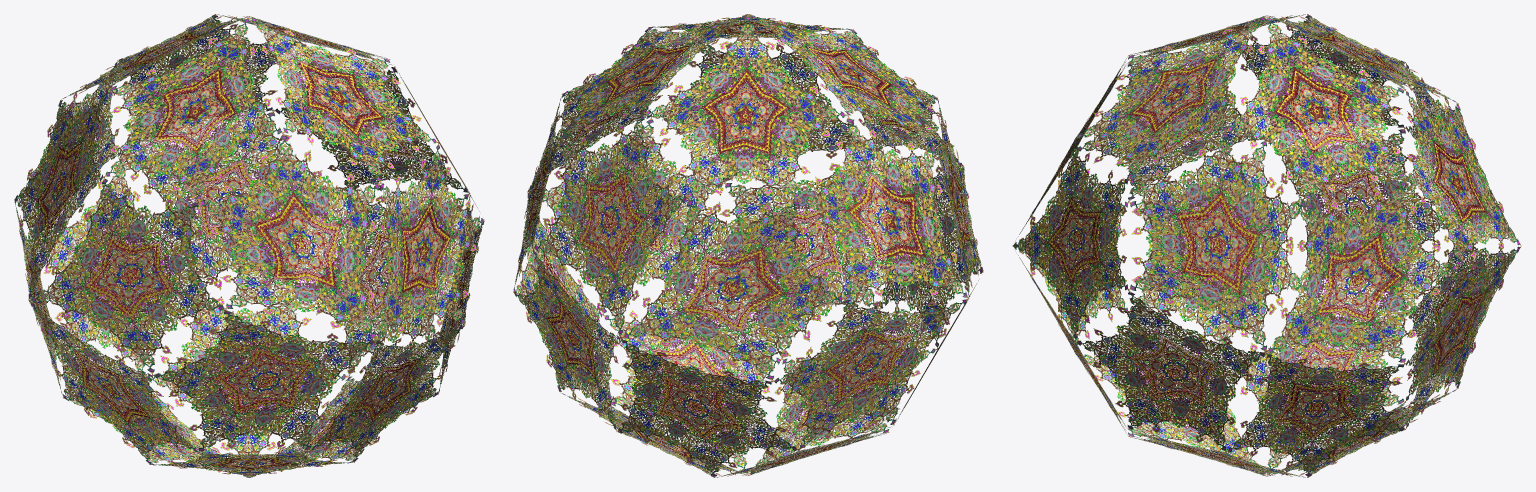
File: PentagonalIcositetrahedron11.obj
3 views of the same model, side by side, from view 1: azimuth 30°, elevation 25°; view 2: azimuth 150°, elevation 25°; view 3: azimuth 270°, elevation 25° (orthographic).
Bounding box in the file's own units: 2.72 × 2.72 × 2.72.
Materials: 1 (1 with a texture image).
